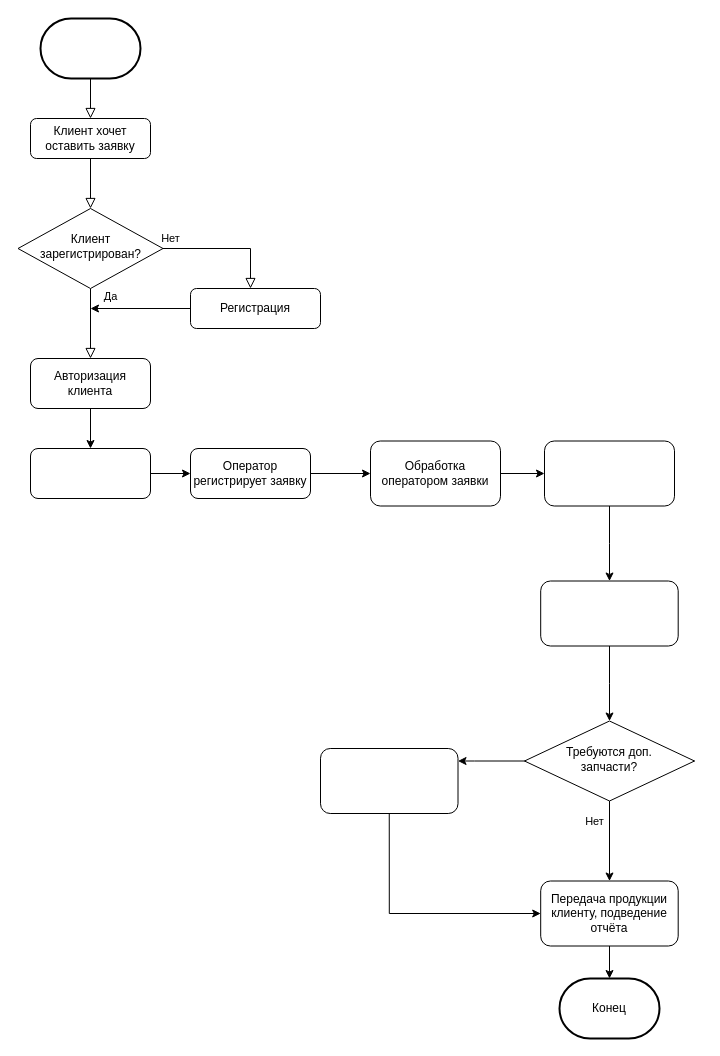
Image size: 720x1056. Some labels were removed from this diagram. The centre of each missing label's shape, as x and y in pixels:
"Дозаказ запчастей" goes at (x=389, y=781).
"Исполнитель начинает работу" goes at (x=609, y=613).
"Начало" goes at (x=90, y=48).
"Оператор передаёт заявку в работу исполнителю" goes at (x=609, y=473).
"Создание заявки, описание проблемы клиентом" goes at (x=90, y=473).
